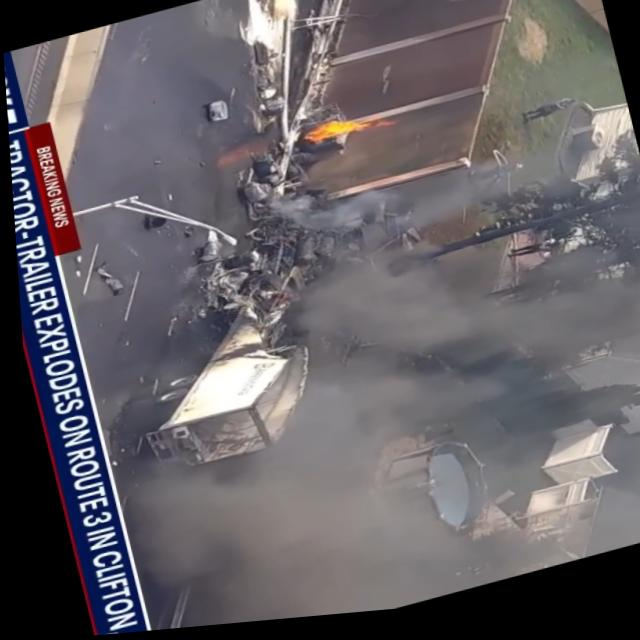Fire: (294, 101, 396, 162)
